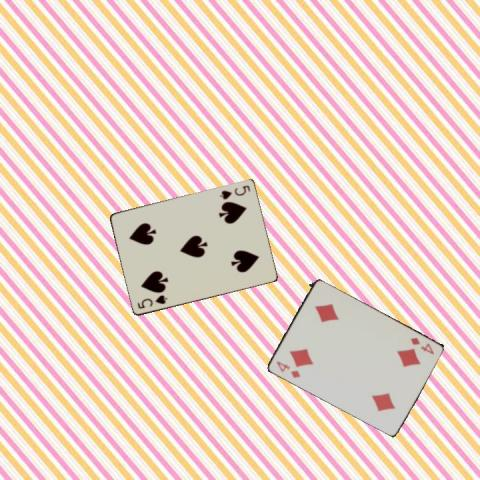4d: (273, 358, 301, 379), (408, 335, 436, 356)
5s: (217, 182, 252, 201), (134, 292, 168, 310)
